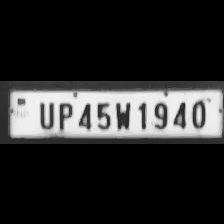0: (188, 96, 208, 128)
1: (132, 98, 148, 130)
4: (74, 98, 94, 130), (168, 96, 188, 128)
5: (92, 98, 112, 130)
9: (149, 96, 169, 128)
P: (54, 98, 74, 130)
U: (33, 98, 55, 128)
W: (111, 97, 132, 129)
